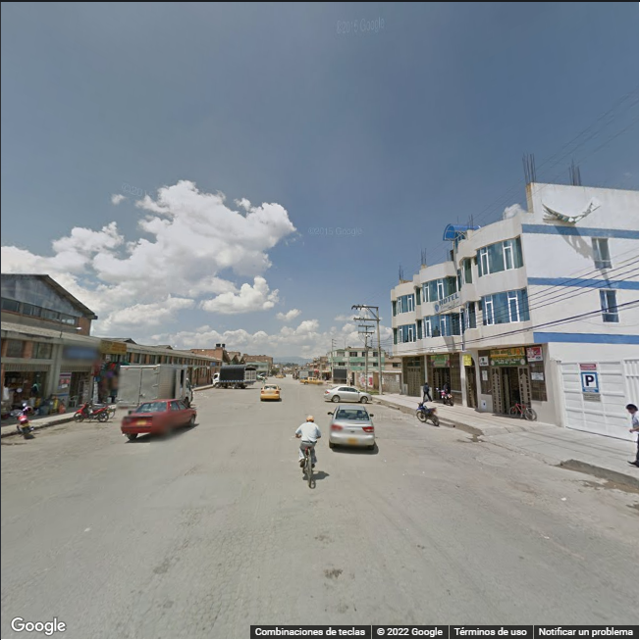D00: (378, 518, 413, 575), (122, 588, 142, 637)
D20: (180, 561, 253, 633)
D40: (322, 567, 347, 581), (312, 536, 341, 546)
